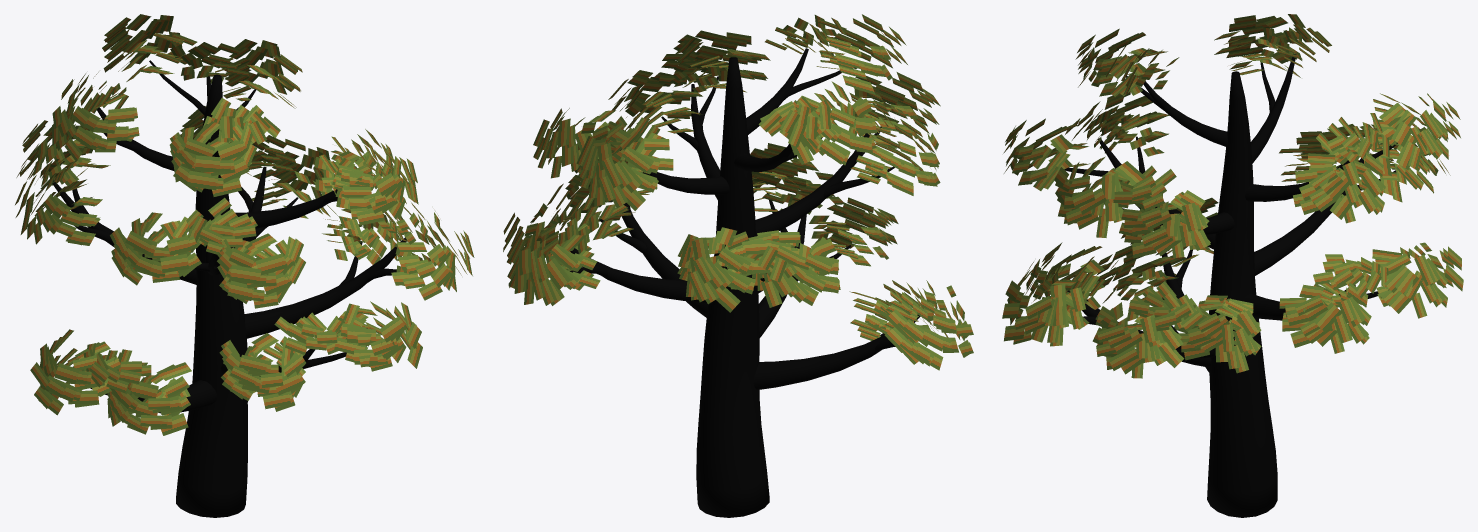
Rendered from BeyondTree_LOD0_v006.glb.
3 renders of one model, left to right at view 1: azimuth 30°, elevation 25°; view 2: azimuth 150°, elevation 25°; view 3: azimuth 270°, elevation 25°, orthographic. The views are drawn at different scales.
Visible parts, largest first — view 1: Leaves, Bark_CurveGrowth_LOD0; view 2: Leaves, Bark_CurveGrowth_LOD0; view 3: Leaves, Bark_CurveGrowth_LOD0.
Part boxes in pixels (<box>): Leaves: <box>15,14,474,435</box>; Bark_CurveGrowth_LOD0: <box>52,60,406,517</box>; Leaves: <box>503,14,973,370</box>; Bark_CurveGrowth_LOD0: <box>570,48,920,517</box>; Leaves: <box>1002,14,1463,378</box>; Bark_CurveGrowth_LOD0: <box>1064,53,1397,517</box>.
Size of the model in its own units: 8.67 by 9.17 by 8.69.
Materials: 2 (2 with a texture image).
